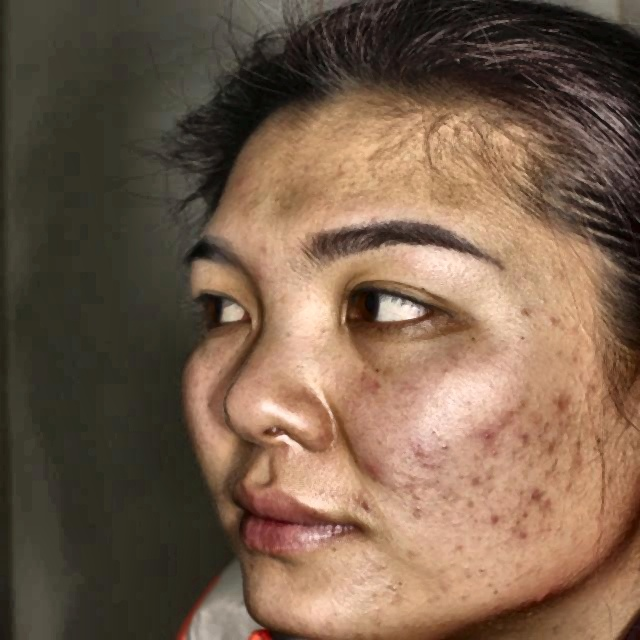pustule: (510, 520, 542, 556), (511, 418, 539, 454), (362, 457, 394, 482), (526, 483, 550, 512), (222, 172, 259, 190), (478, 428, 505, 452), (549, 388, 572, 414)
